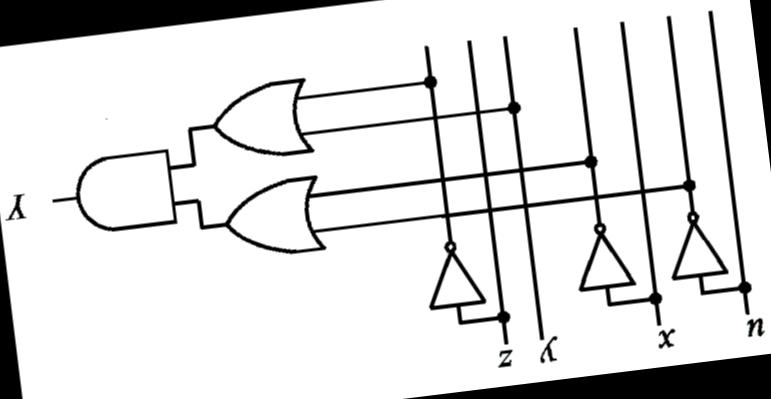and: (59, 132, 190, 250)
not: (560, 206, 647, 305), (409, 228, 496, 320), (654, 200, 734, 291)
or: (194, 66, 330, 175), (208, 166, 342, 274)
